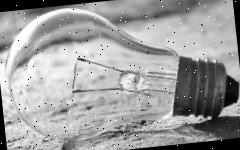lightbulb: (0, 0, 240, 149), (116, 68, 144, 95)
